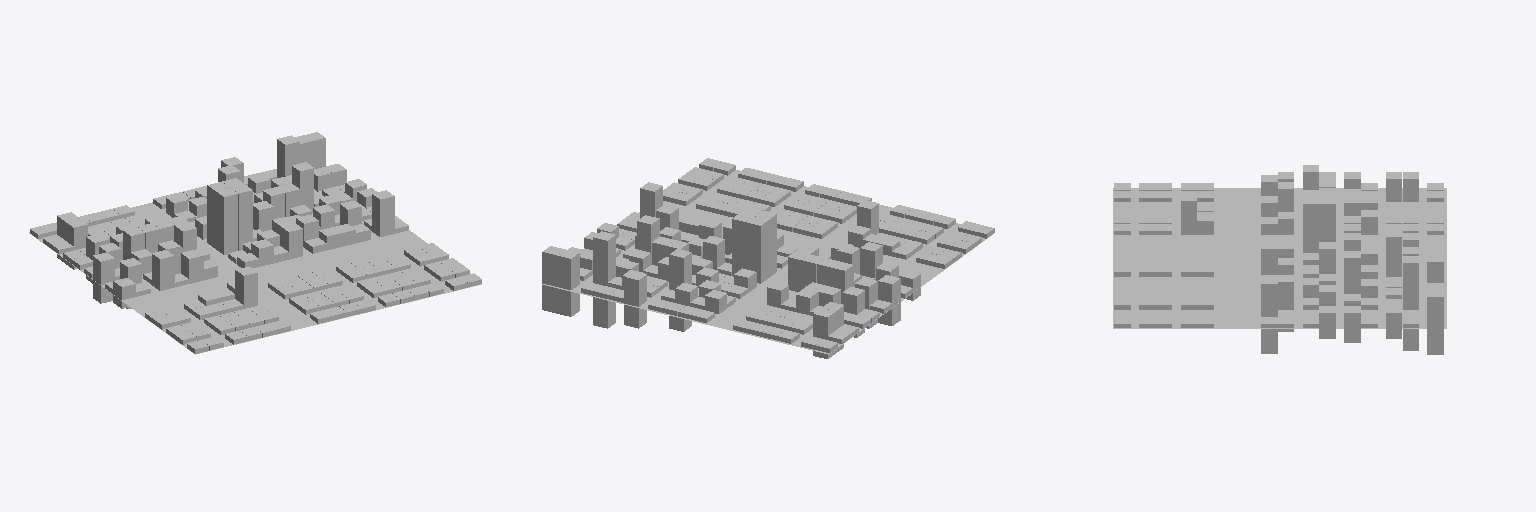
The model's file is GBstreets.obj.
3 renders of one model, left to right at view 1: azimuth 30°, elevation 25°; view 2: azimuth 150°, elevation 25°; view 3: azimuth 270°, elevation 25°, orthographic.
Visible parts, largest first — view 1: Plane, Cube.087, Cube.223, Cube.067, Cube.088, Cube.211, Cube.028, Cube.186, Cube.123, Cube.218, Cube.213, Cube.093 (+6 smaller); view 2: Plane, Cube.186, Cube.191, Cube.093, Cube.175, Cube.164, Cube.192, Cube.067, Cube.094, Cube.138, Cube.123, Cube.223 (+7 smaller); view 3: Plane, Cube.186, Cube.192, Cube.223, Cube.088, Cube.123, Cube.094, Cube.164, Cube.028, Cube.114, Cube.126, Cube.128 (+3 smaller).
Part boxes in pixels (left/top/right/bottom): Plane: left=29, top=189, right=481, bottom=354; Cube.087: left=216, top=188, right=237, bottom=254; Cube.223: left=372, top=190, right=394, bottom=236; Cube.067: left=93, top=252, right=114, bottom=303; Cube.088: left=231, top=184, right=252, bottom=250; Cube.211: left=152, top=250, right=174, bottom=290; Cube.028: left=235, top=266, right=257, bottom=308; Cube.186: left=277, top=135, right=299, bottom=177; Cube.123: left=292, top=162, right=313, bottom=212; Cube.218: left=280, top=223, right=302, bottom=259; Cube.213: left=181, top=250, right=203, bottom=283; Cube.093: left=207, top=182, right=229, bottom=248; Plane: left=542, top=170, right=992, bottom=354; Cube.186: left=593, top=231, right=615, bottom=328; Cube.191: left=557, top=249, right=579, bottom=316; Cube.093: left=746, top=216, right=768, bottom=283; Cube.175: left=624, top=271, right=646, bottom=328; Cube.164: left=669, top=249, right=691, bottom=331; Cube.192: left=542, top=246, right=564, bottom=313; Cube.067: left=878, top=275, right=900, bottom=325; Cube.094: left=732, top=213, right=753, bottom=276; Cube.138: left=813, top=308, right=835, bottom=358; Cube.123: left=637, top=215, right=659, bottom=264; Cube.223: left=640, top=182, right=662, bottom=218; Plane: left=1113, top=188, right=1446, bottom=328; Cube.186: left=1403, top=256, right=1418, bottom=350; Cube.192: left=1427, top=290, right=1443, bottom=354; Cube.223: left=1261, top=277, right=1277, bottom=353; Cube.088: left=1303, top=197, right=1318, bottom=252; Cube.123: left=1344, top=251, right=1360, bottom=342; Cube.094: left=1319, top=197, right=1335, bottom=241; Cube.164: left=1386, top=230, right=1401, bottom=276; Cube.028: left=1181, top=194, right=1196, bottom=234; Cube.114: left=1278, top=275, right=1293, bottom=331; Cube.126: left=1319, top=306, right=1335, bottom=338; Cube.128: left=1344, top=306, right=1360, bottom=338.
Size of the model in its own units: 40.09 by 14.76 by 40.09.